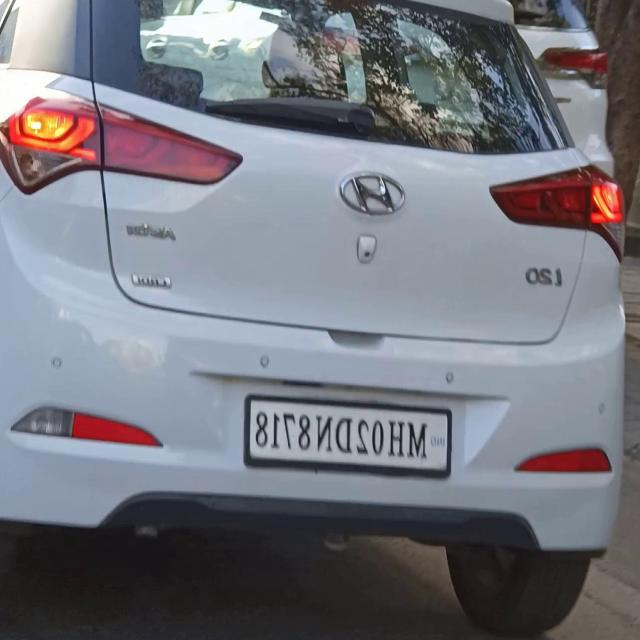license_plate: (238, 390, 458, 484)
